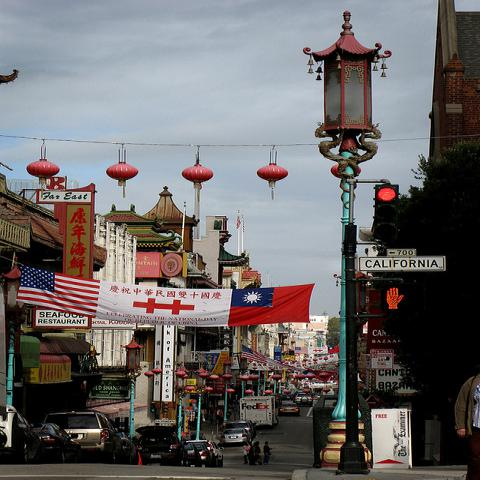car: (43, 410, 122, 462), (30, 422, 84, 461), (1, 406, 38, 462), (134, 426, 183, 468), (182, 440, 217, 468), (222, 419, 258, 436), (220, 428, 253, 446), (209, 442, 224, 467), (294, 390, 313, 406), (278, 403, 301, 416)
truck: (239, 396, 279, 430)
